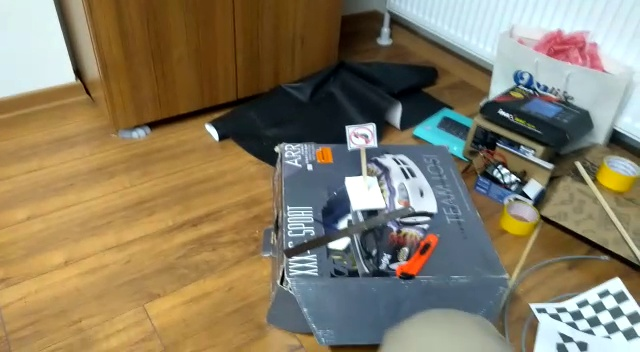sola_donulmez: (349, 124, 375, 148)
